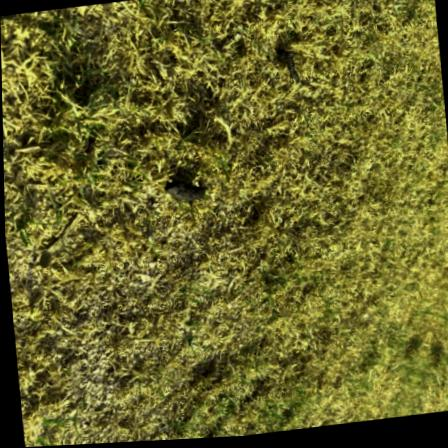dog-poop: (163, 177, 211, 210)
